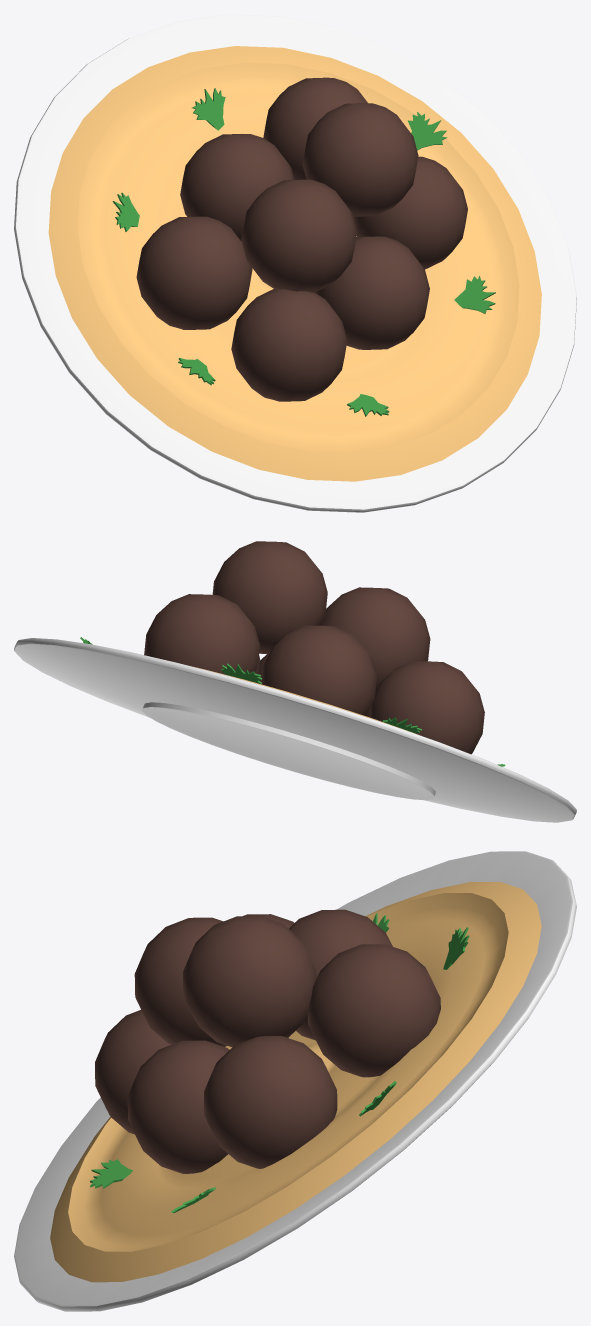
File: falafel.gltf
The picture shows the model from 3 angles, top to bottom: view 1: azimuth 30°, elevation 25°; view 2: azimuth 150°, elevation 25°; view 3: azimuth 270°, elevation 25°; orthographic projection. The views are drawn at different scales.
Visible parts, largest first — view 1: Circle.2216, Circle.2215, Cube.393, Cube.392, Cube.396, Cube.394, Cube.388, Cube.390, Cube.395, Cube.391, Cube.400, Cube.401 (+2 smaller); view 2: Circle.2215, Cube.394, Cube.390, Cube.392, Cube.391, Cube.393, Cube.399; view 3: Circle.2216, Circle.2215, Cube.394, Cube.391, Cube.395, Cube.388, Cube.393, Cube.396, Cube.390, Cube.397.
Boxes of the visible parts, x1,y1,x2,y2 form: Circle.2216: [48, 46, 541, 481]; Circle.2215: [14, 14, 576, 512]; Cube.393: [241, 179, 357, 292]; Cube.392: [136, 216, 252, 329]; Cube.396: [231, 289, 347, 401]; Cube.394: [302, 103, 418, 216]; Cube.388: [315, 236, 429, 349]; Cube.390: [180, 134, 294, 240]; Cube.395: [353, 156, 467, 269]; Cube.391: [263, 77, 367, 179]; Cube.400: [454, 275, 495, 313]; Cube.401: [407, 112, 447, 150]; Circle.2215: [14, 638, 576, 822]; Cube.394: [212, 541, 327, 653]; Cube.390: [261, 625, 376, 715]; Cube.392: [369, 661, 484, 754]; Cube.391: [144, 594, 259, 674]; Cube.393: [320, 587, 430, 692]; Cube.399: [221, 663, 261, 683]; Circle.2216: [50, 882, 541, 1282]; Circle.2215: [14, 851, 576, 1311]; Cube.394: [183, 916, 316, 1047]; Cube.391: [307, 944, 440, 1077]; Cube.395: [204, 1036, 337, 1168]; Cube.388: [127, 1040, 229, 1173]; Cube.393: [134, 917, 226, 1046]; Cube.396: [95, 1010, 170, 1134]; Cube.390: [289, 909, 392, 1040]; Cube.397: [90, 1159, 132, 1188].
Bounding box in the file's own units: 2.33 × 1.37 × 1.91.
1 material, 1 textured.
